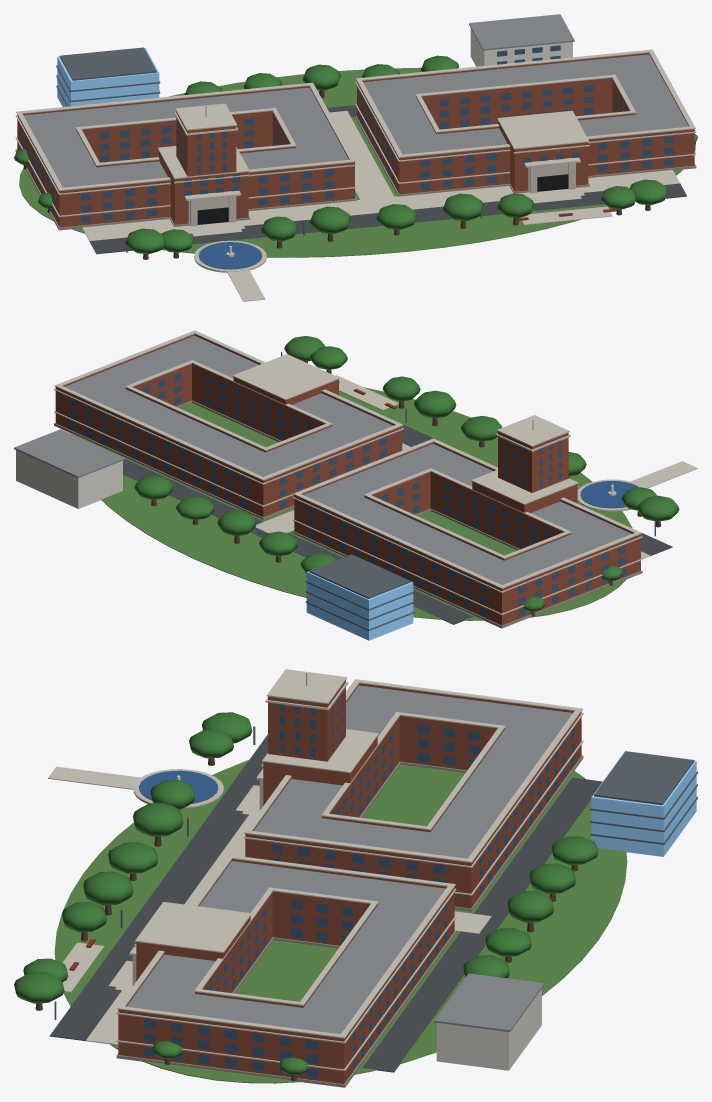
The model's file is seoultech.glb.
3 renders of one model, top to bottom at view 1: azimuth 30°, elevation 25°; view 2: azimuth 150°, elevation 25°; view 3: azimuth 270°, elevation 25°, orthographic. The views are drawn at different scales.
Size of the model in its own units: 214 by 37.2 by 172.
